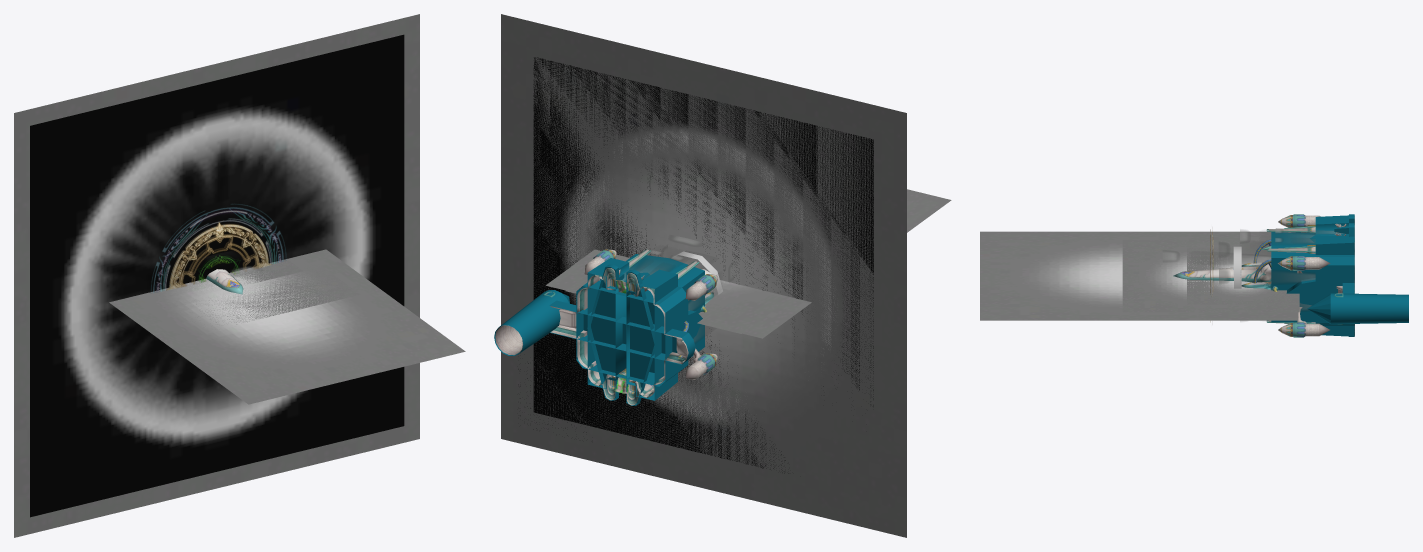
3 renders of one model, left to right at view 1: azimuth 30°, elevation 25°; view 2: azimuth 150°, elevation 25°; view 3: azimuth 270°, elevation 25°, orthographic. The views are drawn at different scales.
Parts seen in each view (by area): view 1: object0210_Plane06, "object0131_Editable Poly", object0230_Plane07, "object0189_Editable Poly", object0169_Plane, object0179_Plane, object0011_UA106:1; view 2: object0230_Plane07, object0194_Plane05, "object0038_true wall", object0250_Plane04, "object0131_Editable Poly", "object0030_true wall", object0016_UA106:2, object0041_Object01, object0005_UA106:0, object0027_UA106-s, object0021_UA106:3, object0077_Light07; view 3: "object0131_Editable Poly", "object0038_true wall", object0041_Object01, object0016_UA106:2, object0011_UA106:1, "object0085_Editable Poly", object0114_PolyMesh.
Boxes of the visible parts, x1,y1,x2,y2 form: object0210_Plane06: [30, 34, 404, 517]; "object0131_Editable Poly": [109, 249, 465, 404]; object0230_Plane07: [14, 14, 419, 537]; "object0189_Editable Poly": [166, 221, 271, 290]; object0169_Plane: [151, 204, 286, 293]; object0179_Plane: [156, 209, 281, 291]; object0011_UA106:1: [206, 269, 243, 294]; object0230_Plane07: [501, 14, 906, 537]; object0194_Plane05: [533, 57, 873, 473]; "object0038_true wall": [494, 258, 695, 400]; object0250_Plane04: [550, 77, 839, 451]; "object0131_Editable Poly": [546, 189, 951, 338]; "object0030_true wall": [587, 264, 654, 405]; object0016_UA106:2: [559, 249, 717, 379]; object0041_Object01: [610, 254, 704, 391]; object0005_UA106:0: [550, 269, 685, 398]; object0027_UA106-s: [602, 268, 639, 405]; object0021_UA106:3: [495, 291, 555, 355]; object0077_Light07: [637, 236, 703, 274]; "object0131_Editable Poly": [980, 231, 1299, 320]; "object0038_true wall": [1307, 215, 1408, 336]; object0041_Object01: [1271, 225, 1348, 322]; object0016_UA106:2: [1266, 214, 1342, 337]; object0011_UA106:1: [1173, 239, 1342, 291]; "object0085_Editable Poly": [1219, 269, 1315, 283]; object0114_PolyMesh: [1163, 251, 1270, 264].
Bounding box in the file's own units: 225 × 225 × 245.
